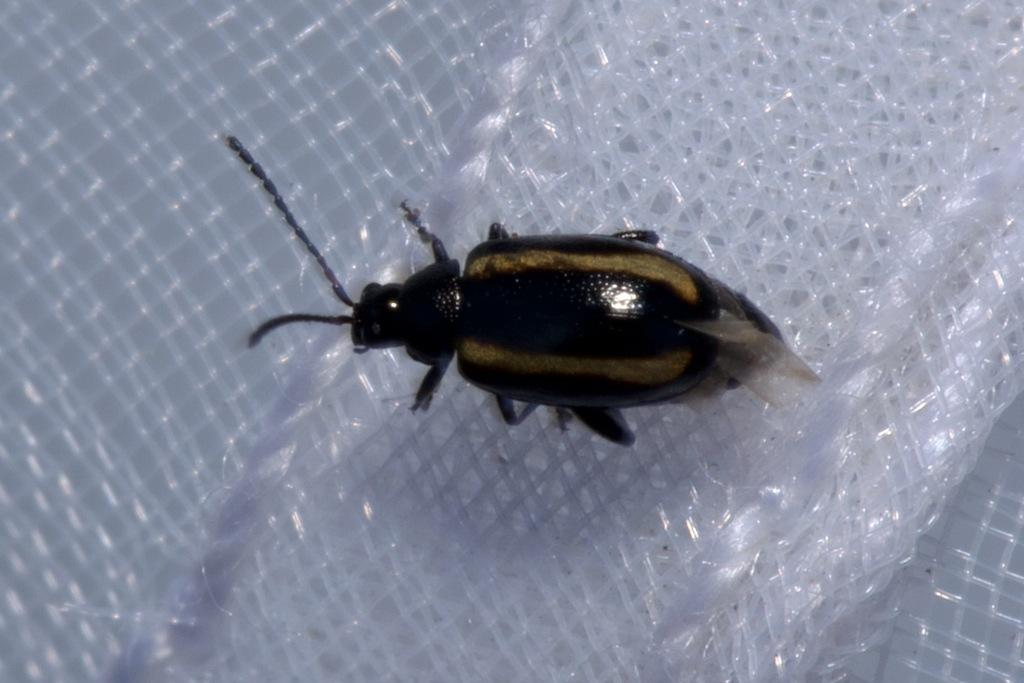flea_beetle: (143, 95, 853, 505)
